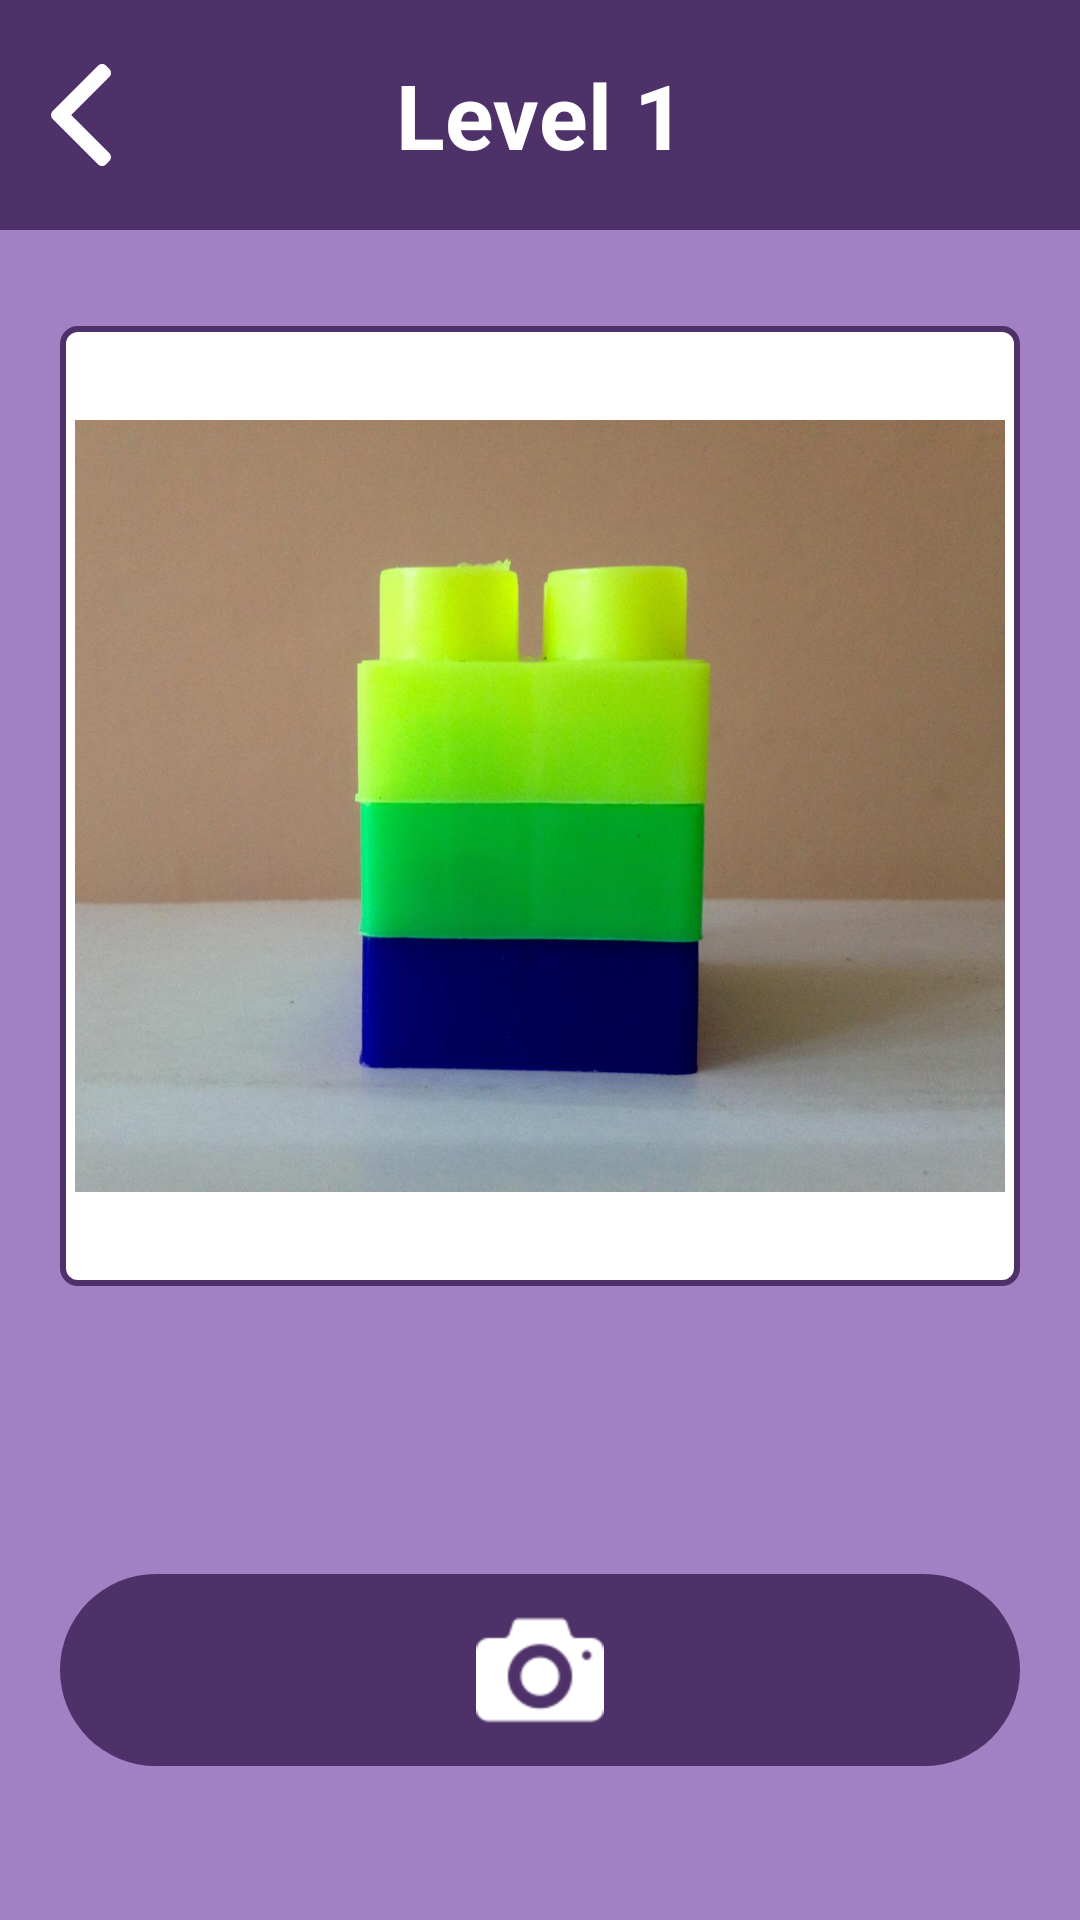

Icon bounding boxes for this 1080px x 1920px phone screenshot, format (x1, y1, x2, y2):
activity back arrow: (51, 64, 111, 166)
